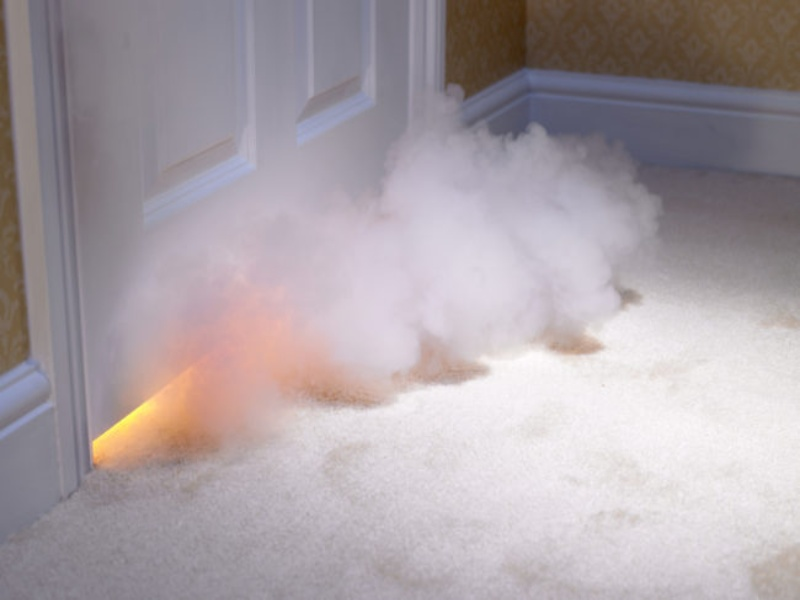smoke: (167, 119, 659, 358)
